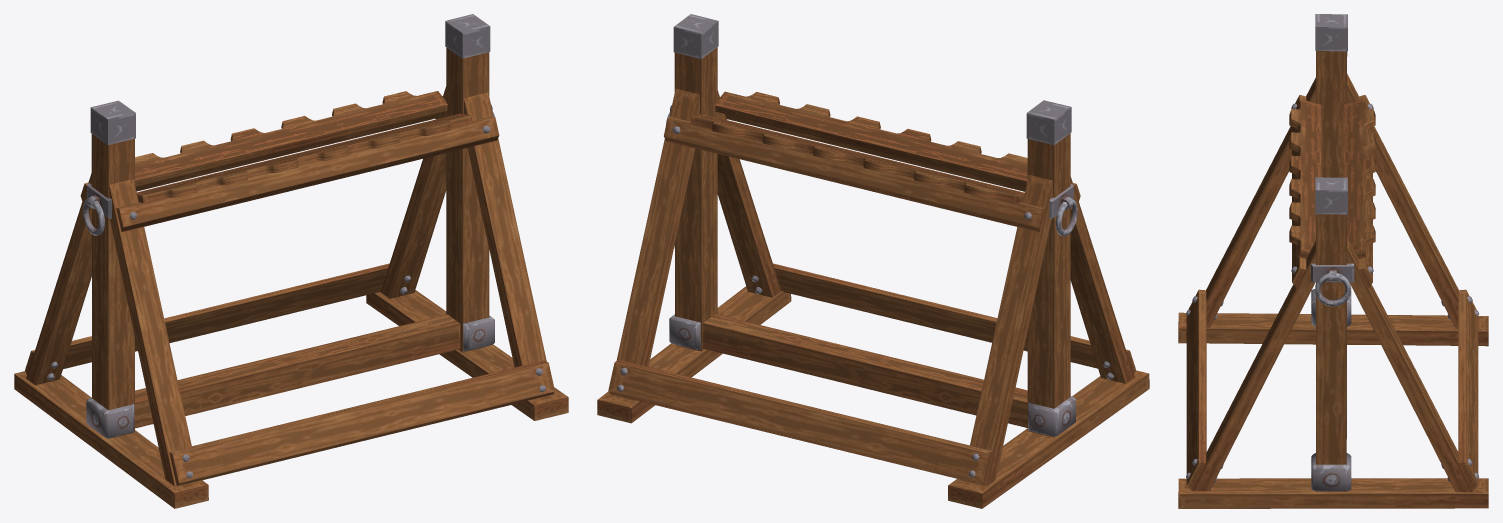
File: WeaponStand.gltf
3 renders of one model, left to right at view 1: azimuth 30°, elevation 25°; view 2: azimuth 150°, elevation 25°; view 3: azimuth 270°, elevation 25°, orthographic. The views are drawn at different scales.
Visible parts, largest first — view 1: WeaponStand; view 2: WeaponStand; view 3: WeaponStand.
Boxes of the visible parts, box(x1,y1,x2,y2) form: WeaponStand: box(14, 14, 568, 508); WeaponStand: box(597, 14, 1149, 508); WeaponStand: box(1178, 14, 1488, 508).
Bounding box in the file's own units: 1.39 × 1.11 × 0.9831.
Materials: 2 (2 with a texture image).
